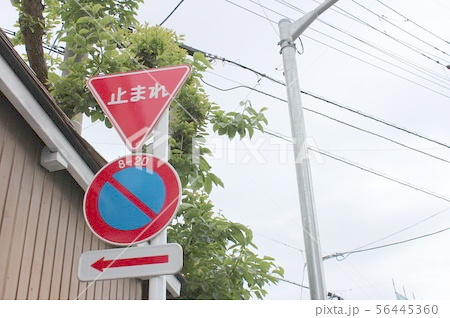Prohibition_sign: (70, 142, 193, 258)
